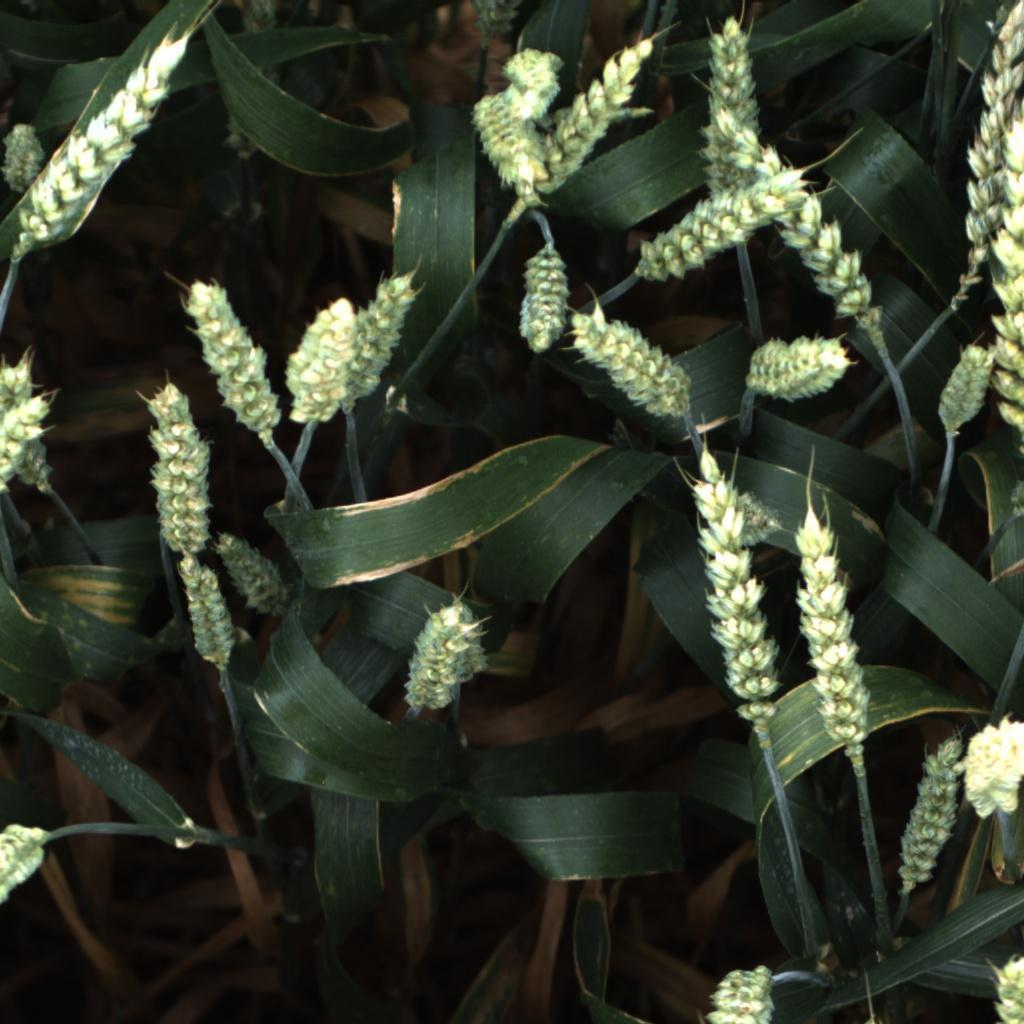0-0: (17, 33, 211, 263), (714, 106, 887, 337), (682, 443, 779, 726), (513, 33, 662, 208), (792, 505, 878, 773), (951, 0, 1024, 301), (627, 170, 796, 287), (174, 277, 283, 429), (131, 377, 214, 551), (567, 312, 694, 425), (692, 15, 769, 201), (891, 725, 970, 895), (279, 298, 364, 426), (220, 0, 281, 162), (469, 85, 553, 200), (174, 548, 245, 679), (352, 267, 424, 395), (399, 602, 473, 719), (0, 347, 54, 502), (741, 329, 852, 402), (928, 334, 993, 448), (513, 241, 575, 360), (214, 527, 292, 615), (0, 380, 60, 494), (963, 709, 1024, 821), (689, 961, 796, 1023), (0, 818, 62, 915), (503, 41, 572, 119), (0, 114, 53, 197), (447, 596, 493, 678), (466, 0, 522, 44), (1007, 476, 1024, 521)
